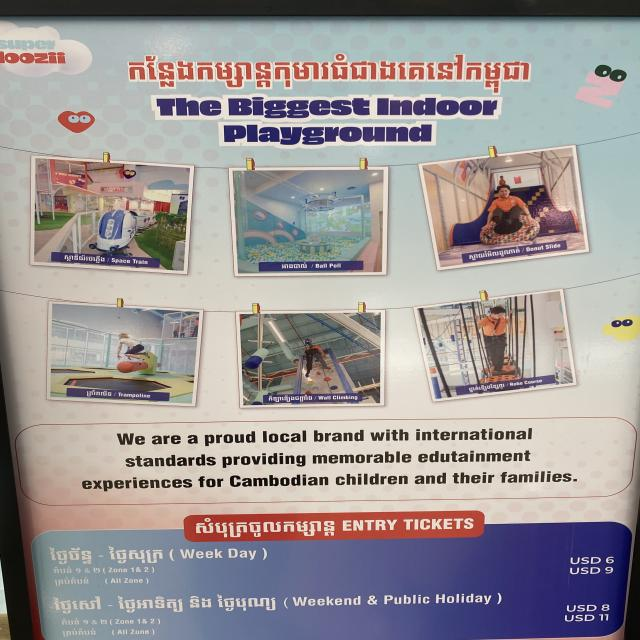2: (45, 544, 167, 565)
3: (58, 615, 110, 626), (50, 565, 102, 574)
4: (51, 593, 281, 616)
513: (135, 618, 159, 625), (129, 566, 152, 573)
550: (598, 613, 613, 621)
797: (604, 554, 616, 564)
838: (600, 603, 612, 612)
874: (604, 566, 615, 574)
Yolov11kh: (121, 50, 539, 96), (191, 514, 341, 539), (467, 246, 521, 263), (62, 253, 107, 264), (53, 575, 91, 587), (467, 382, 507, 393), (267, 394, 313, 403), (60, 627, 97, 637), (86, 389, 114, 398), (280, 262, 308, 270)
